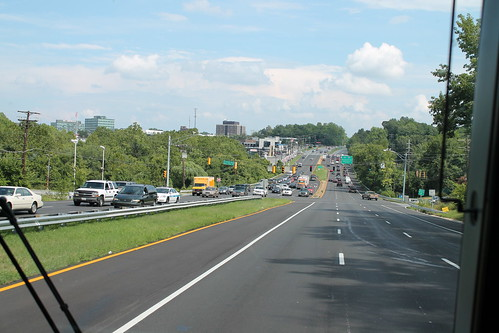building: (223, 118, 294, 156), (63, 116, 115, 138)
car: (111, 183, 158, 212), (72, 178, 118, 206), (1, 184, 45, 212), (193, 173, 218, 199), (155, 184, 183, 206), (360, 188, 378, 202)
road: (14, 184, 470, 330)
sky: (6, 1, 499, 114)
vegetation: (1, 121, 253, 189), (352, 117, 466, 200)
